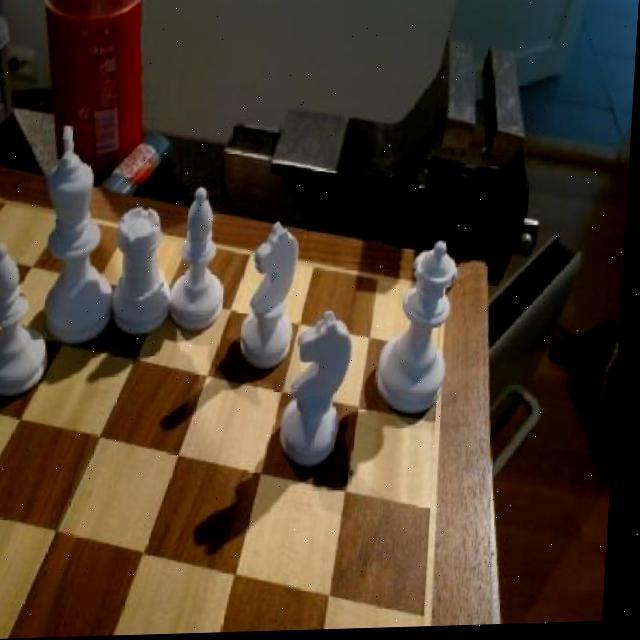black-rook: (172, 182, 242, 339), (0, 234, 62, 404)
white-bishop: (44, 123, 128, 352)
white-king: (285, 311, 370, 478), (244, 222, 310, 378)
white-pawn: (381, 241, 466, 428)
white-queen: (117, 203, 180, 347)
